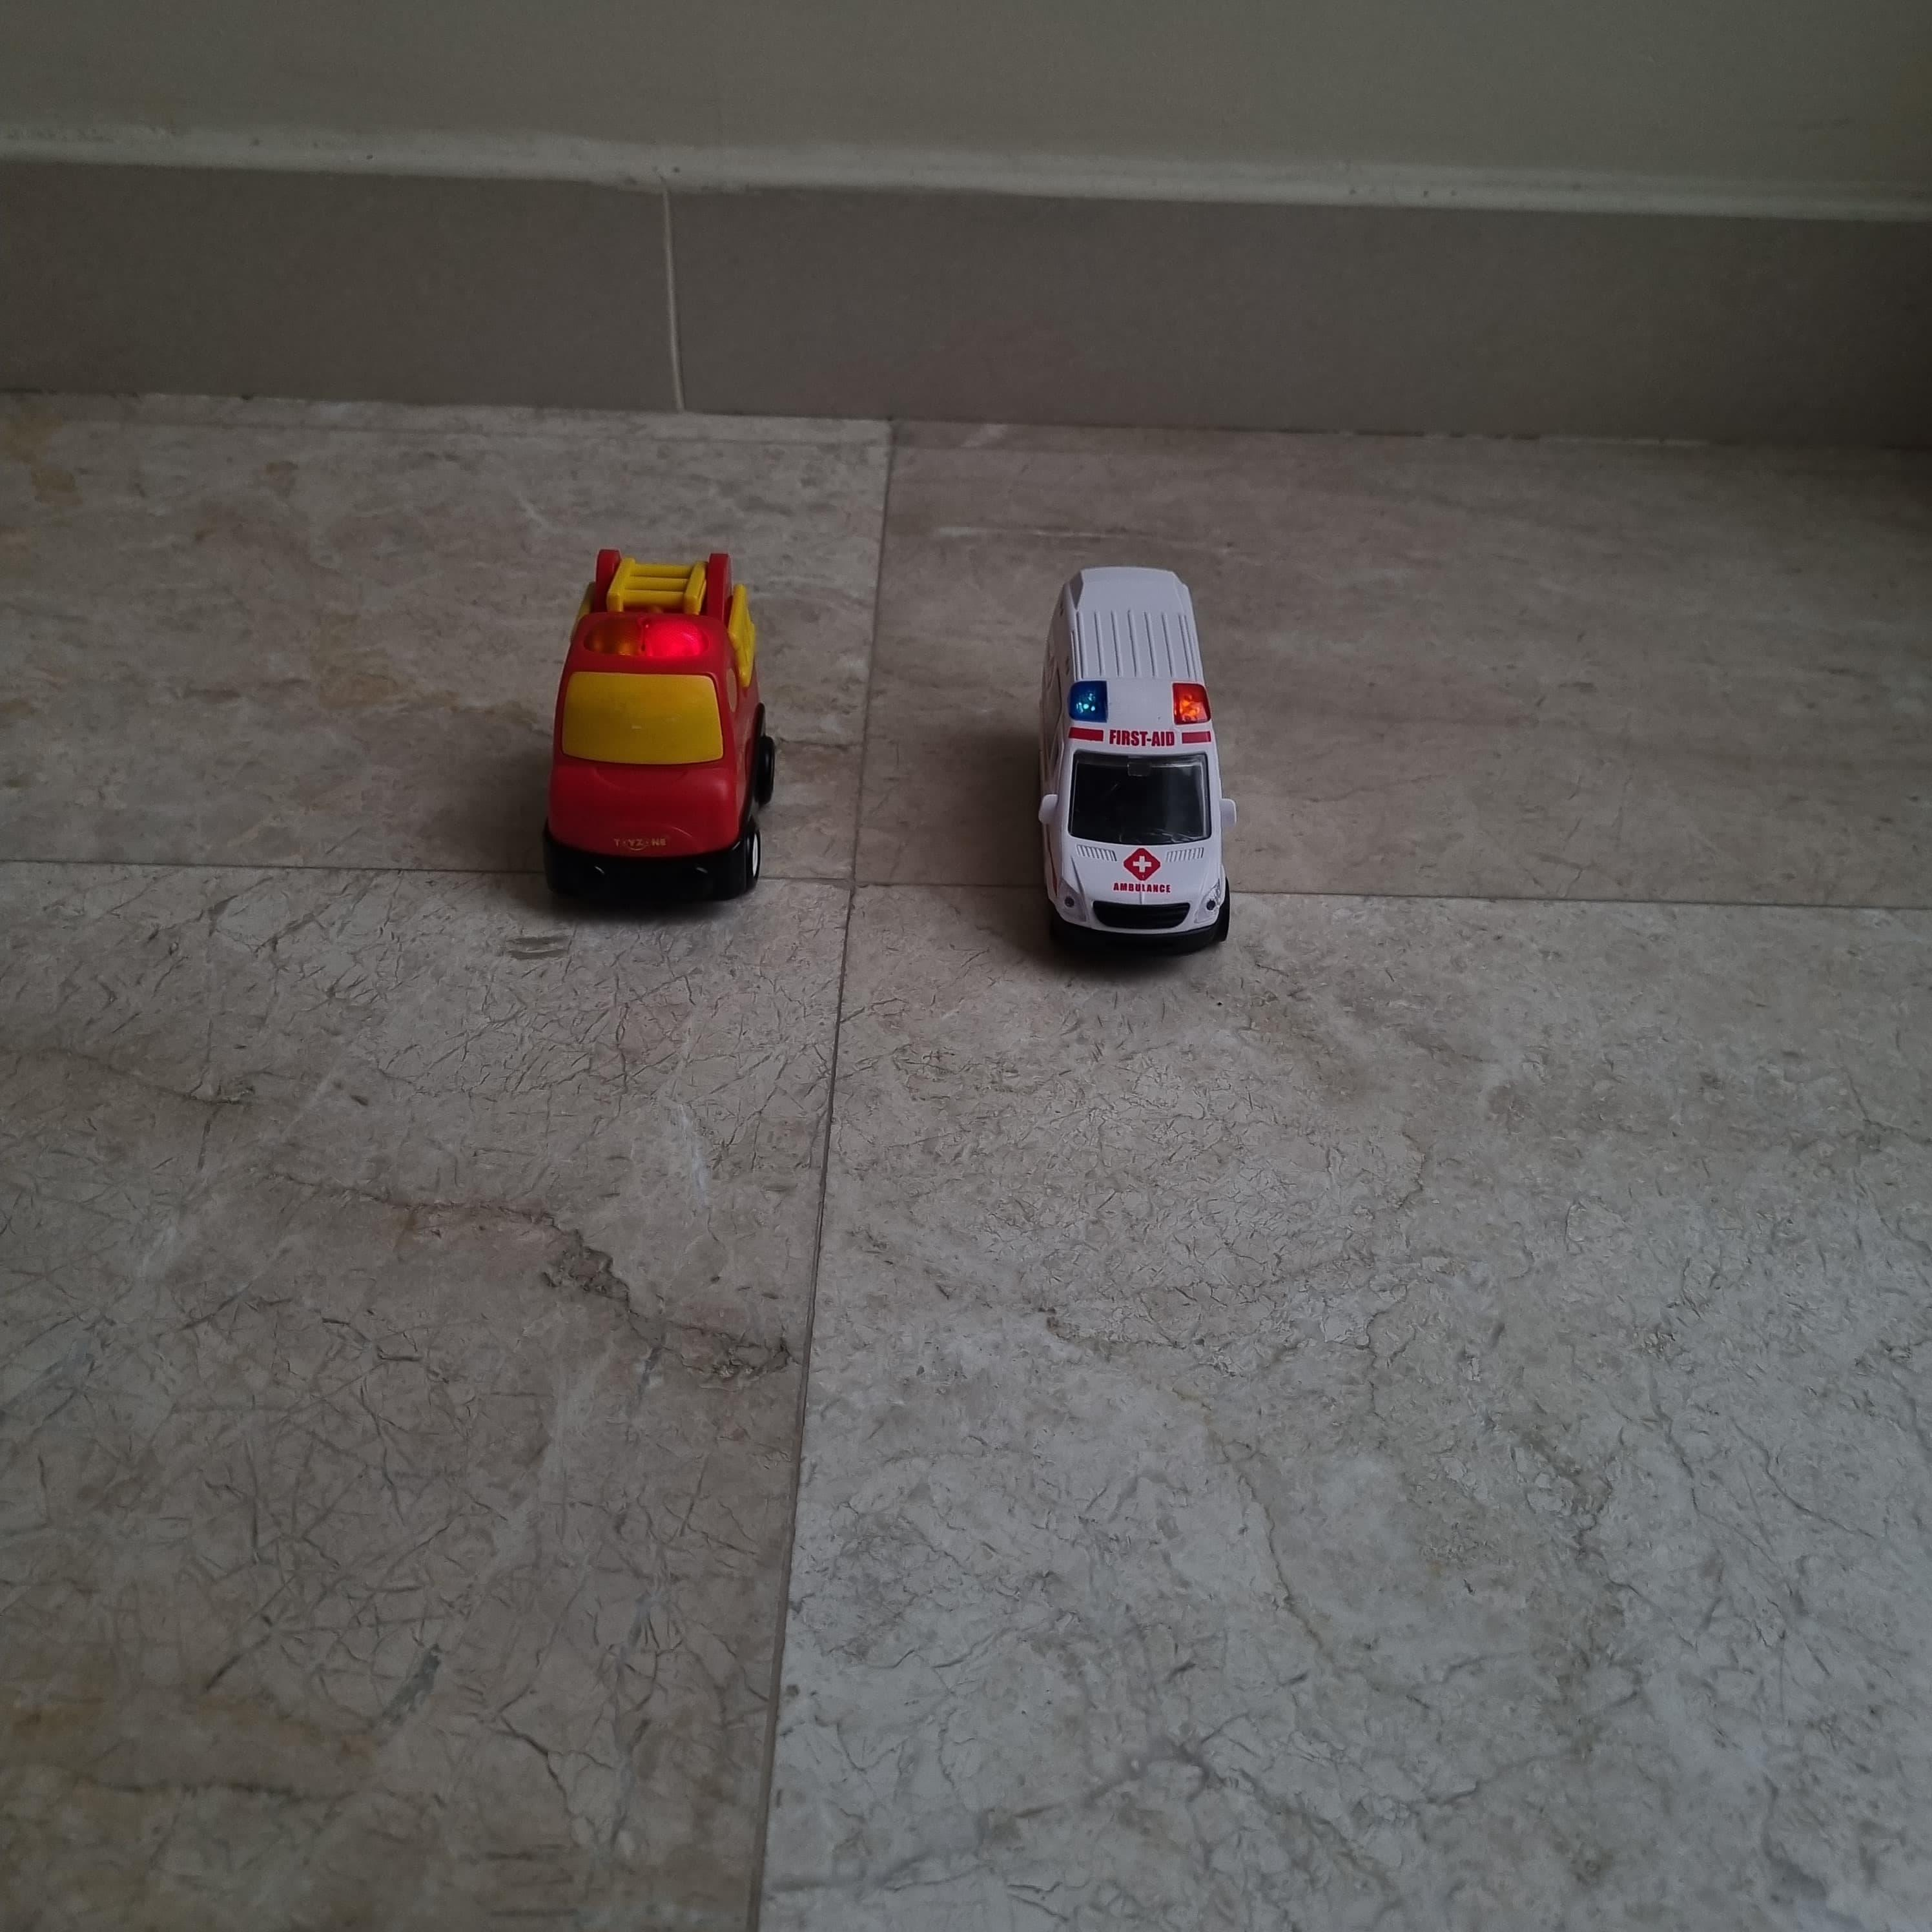ambulance_on: (1033, 568, 1237, 950)
firetruck_on: (538, 550, 775, 913)
